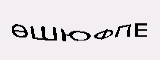В: (47, 11, 59, 31)
Д: (98, 5, 130, 36)
И: (37, 17, 48, 34)
У: (58, 4, 76, 26)
Я: (76, 1, 96, 28)
